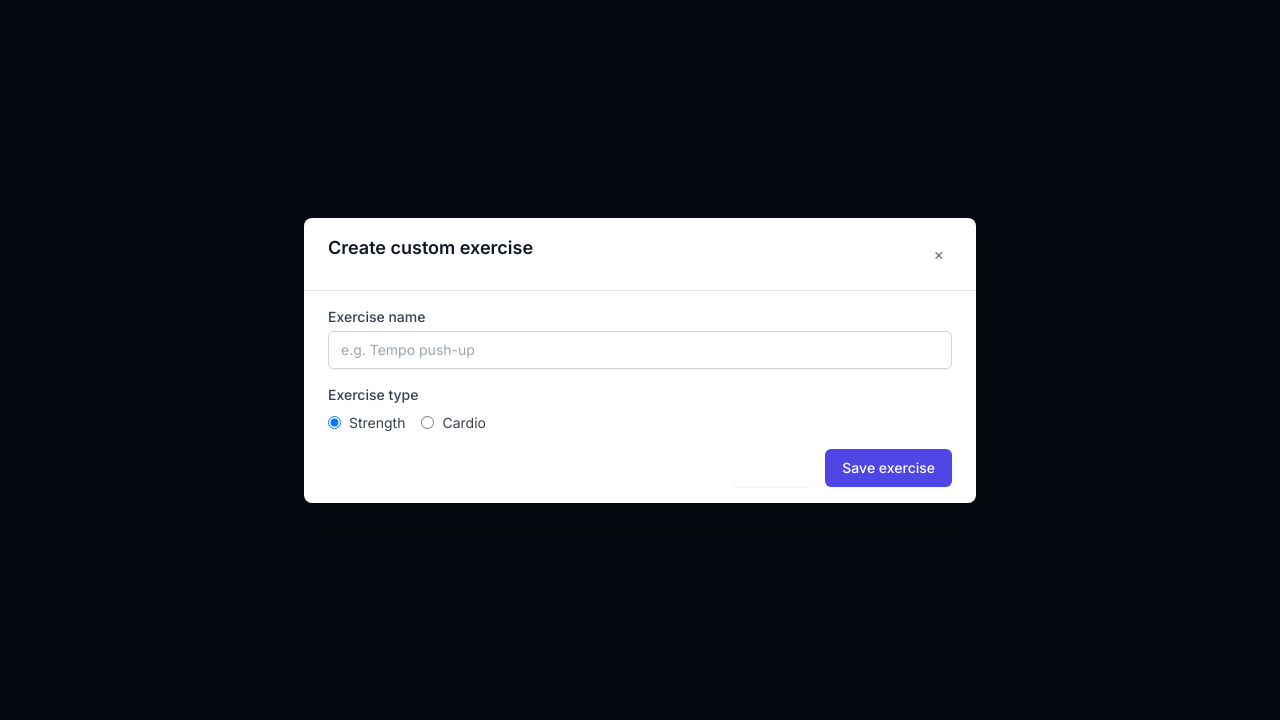
Test: CreateCustomExerciseModal › displays API error messages when creation fails
Type "Custom Movement" into the field labelled "Exercise name" at (640, 350), box [328, 330, 952, 368]
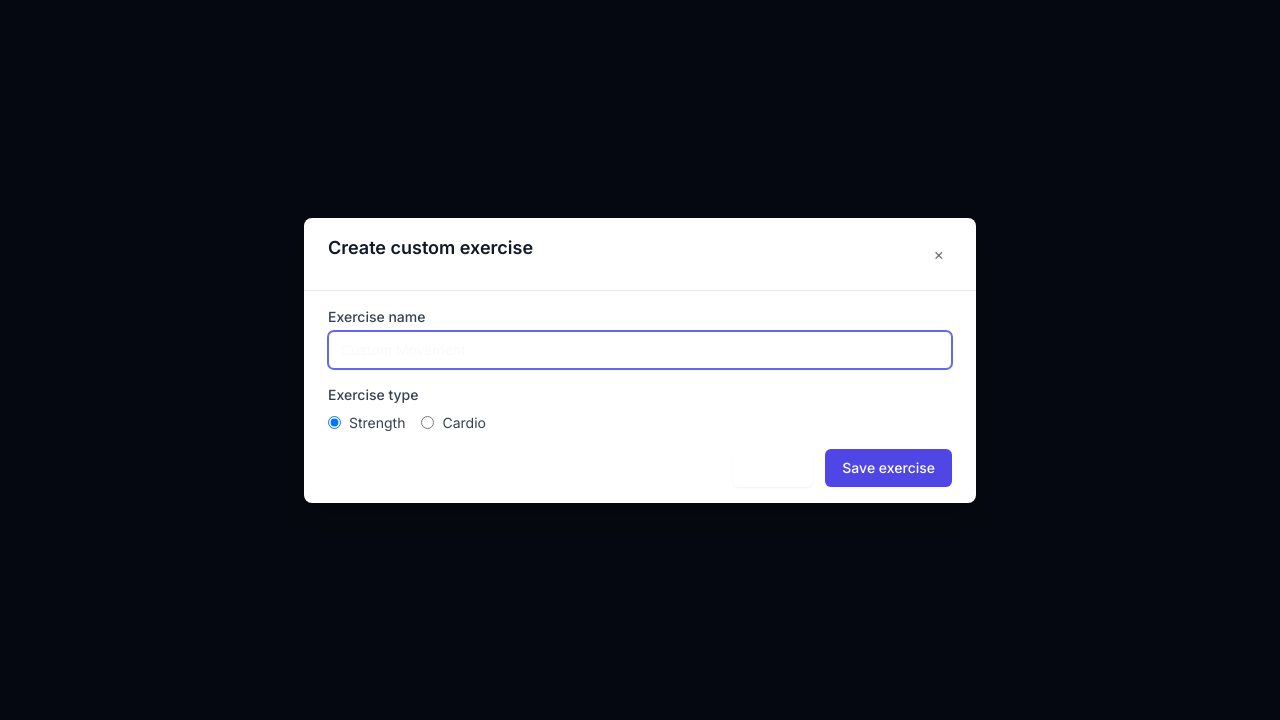
Click the button "Save exercise" at (889, 468), box [825, 448, 952, 486]
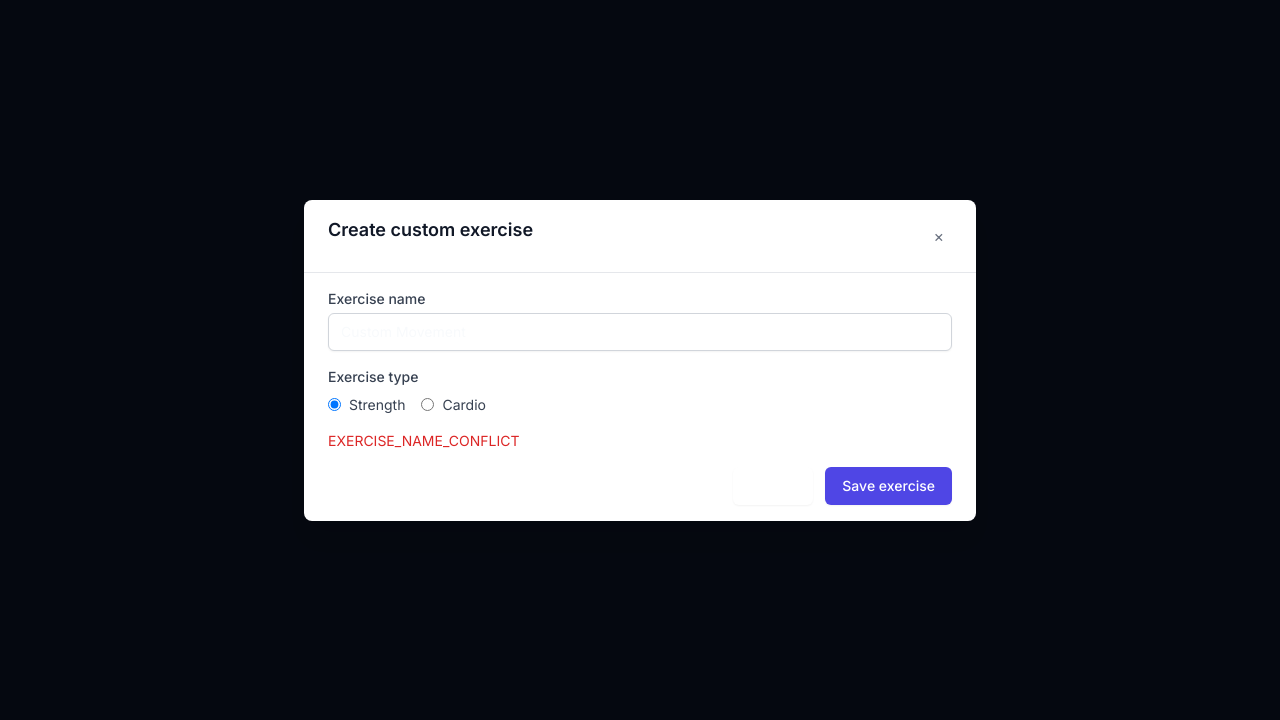
Check: the text "EXERCISE_NAME_CONFLICT" is shown, box [328, 432, 519, 448]
